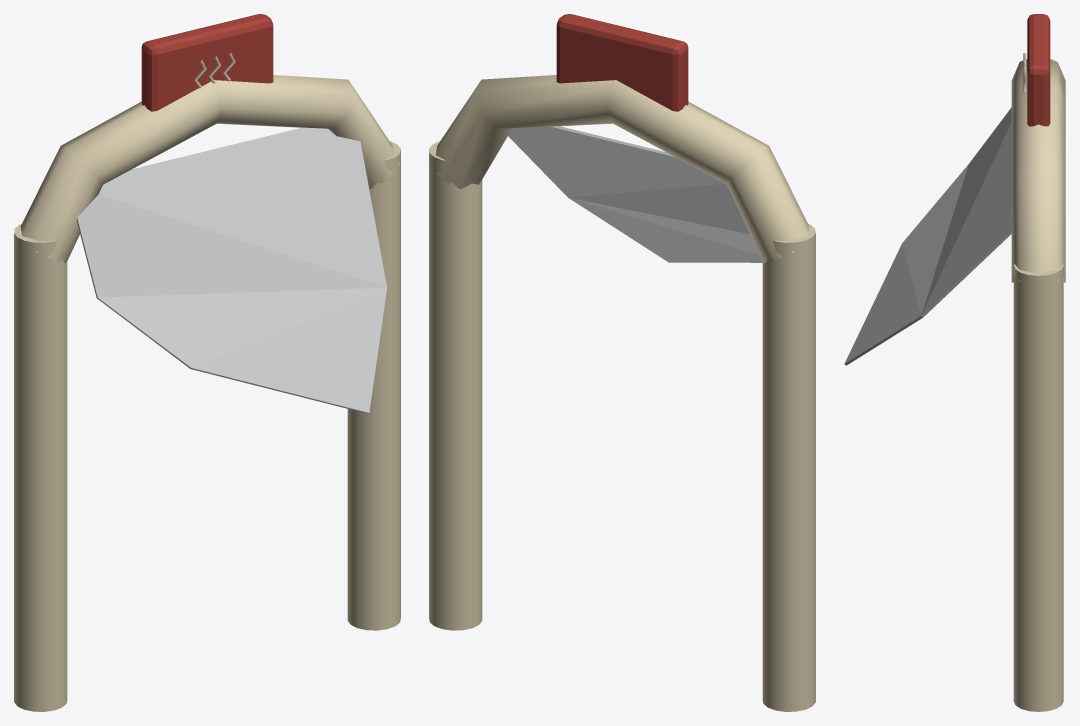
The model's file is foil_gate.glb.
3 views of the same model, side by side, from view 1: azimuth 30°, elevation 25°; view 2: azimuth 150°, elevation 25°; view 3: azimuth 270°, elevation 25° (orthographic). The views are drawn at different scales.
Visible parts, largest first — view 1: foil_gate_Palette, FoilHinge_Palette; view 2: foil_gate_Palette, FoilHinge_Palette; view 3: foil_gate_Palette, FoilHinge_Palette.
Part boxes in pixels (box(x1,y1,x2,y2)): foil_gate_Palette: box(14, 14, 400, 711); FoilHinge_Palette: box(76, 127, 387, 413); foil_gate_Palette: box(429, 14, 815, 711); FoilHinge_Palette: box(508, 126, 762, 262); foil_gate_Palette: box(1011, 14, 1065, 711); FoilHinge_Palette: box(844, 107, 1011, 365).
Bounding box in the file's own units: 2.12 × 3.36 × 1.15.
